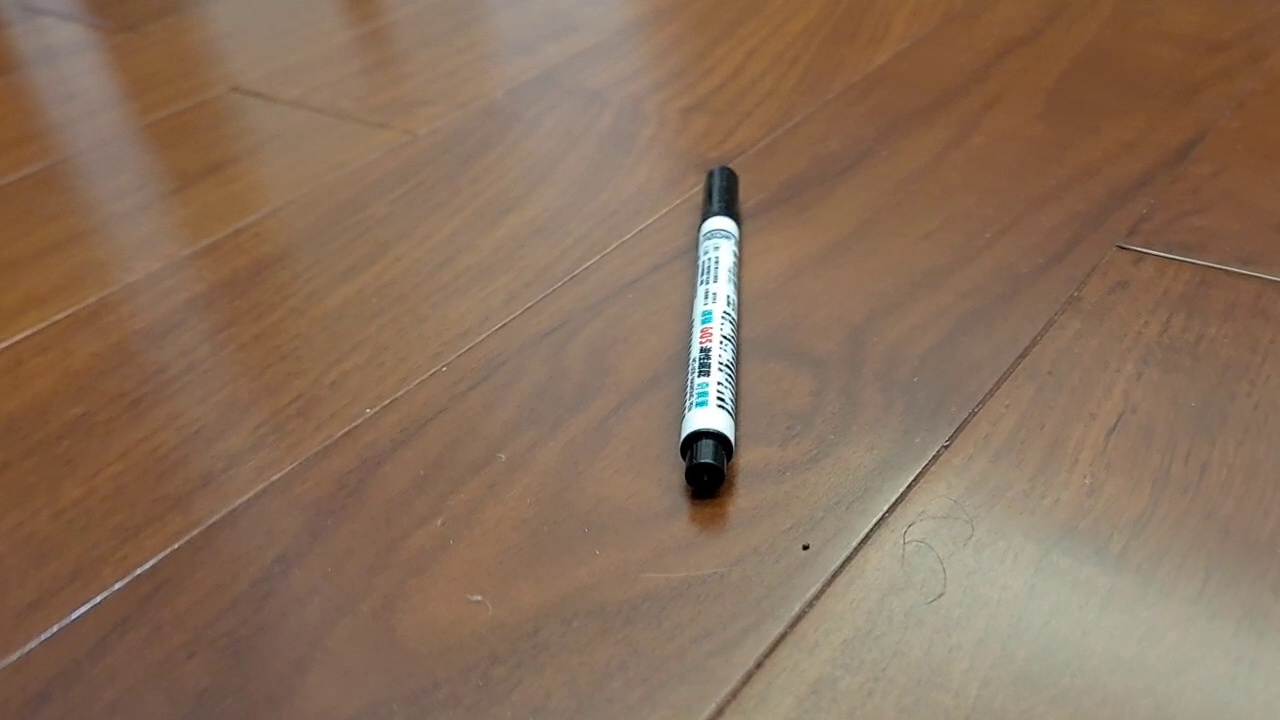pen: (679, 165, 743, 496)
